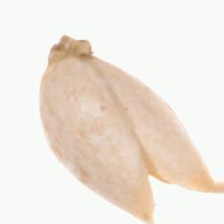L1: (142, 168, 213, 223), (46, 35, 97, 66)
L2: (37, 34, 214, 222)
